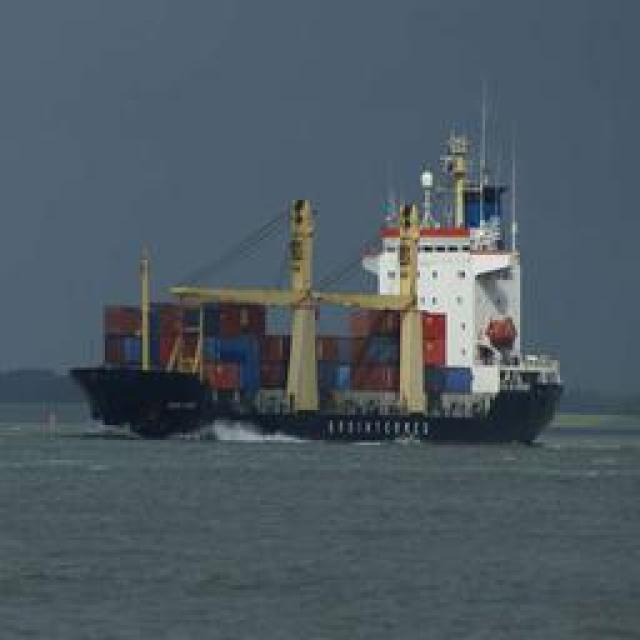CIV_Ship: (78, 186, 568, 444)
